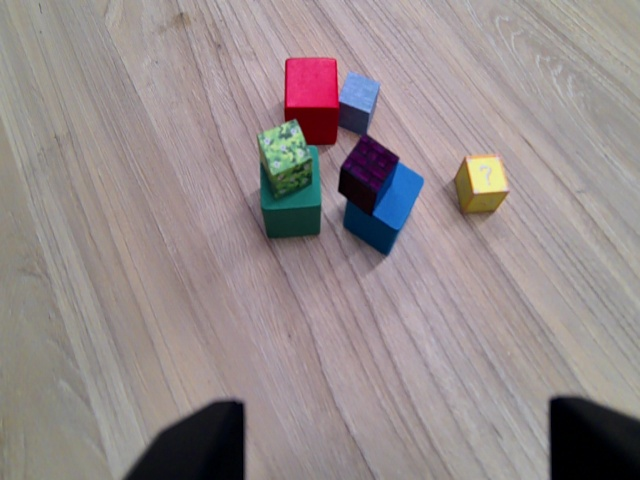brick: (336, 130, 403, 216)
grass: (251, 115, 316, 201)
lucky: (453, 149, 510, 218)
stone: (335, 67, 382, 139)
